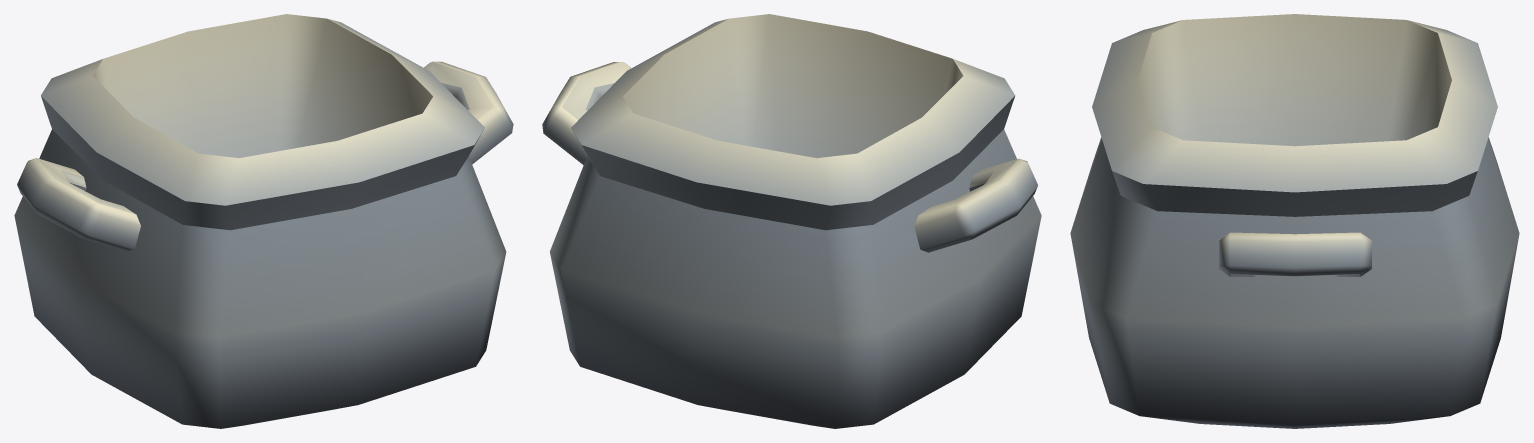
The model's file is pot_soup.fbx.
3 renders of one model, left to right at view 1: azimuth 30°, elevation 25°; view 2: azimuth 150°, elevation 25°; view 3: azimuth 270°, elevation 25°, orthographic. The views are drawn at different scales.
Parts seen in each view (by area): view 1: pot_soup; view 2: pot_soup; view 3: pot_soup.
Part boxes in pixels (left/top/right/bottom): pot_soup: left=14, top=14, right=513, bottom=428; pot_soup: left=542, top=14, right=1041, bottom=428; pot_soup: left=1070, top=14, right=1519, bottom=428.
Bounding box in the file's own units: 67.57 × 38.88 × 54.14.
